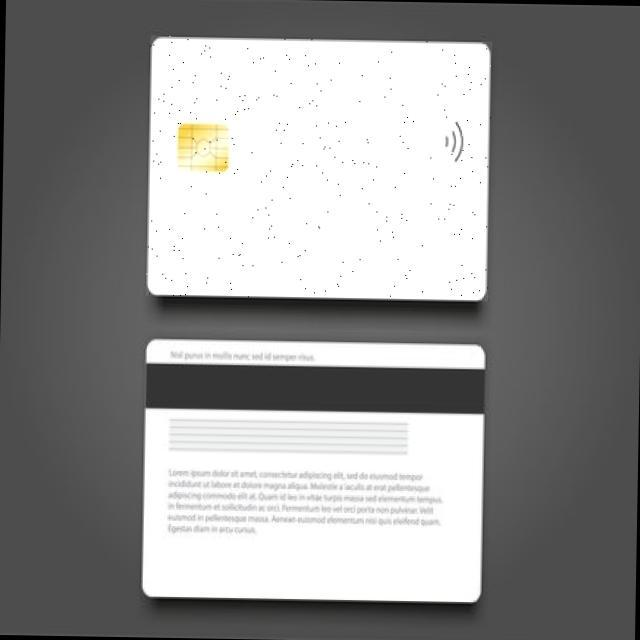payment_card: (146, 35, 490, 302), (141, 338, 485, 604)
